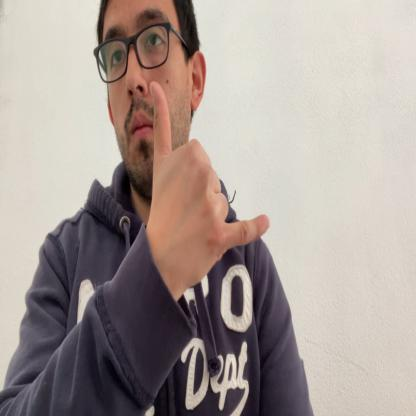Y: (148, 81, 270, 281)
